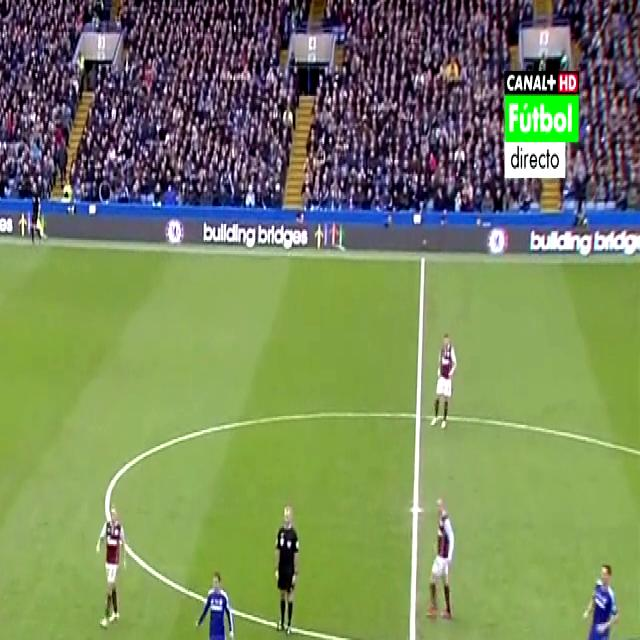referee: (264, 487, 302, 640), (29, 176, 47, 246)
soccer-player: (424, 485, 462, 629), (94, 492, 132, 636), (186, 556, 238, 640), (428, 322, 463, 441), (575, 551, 621, 640)
